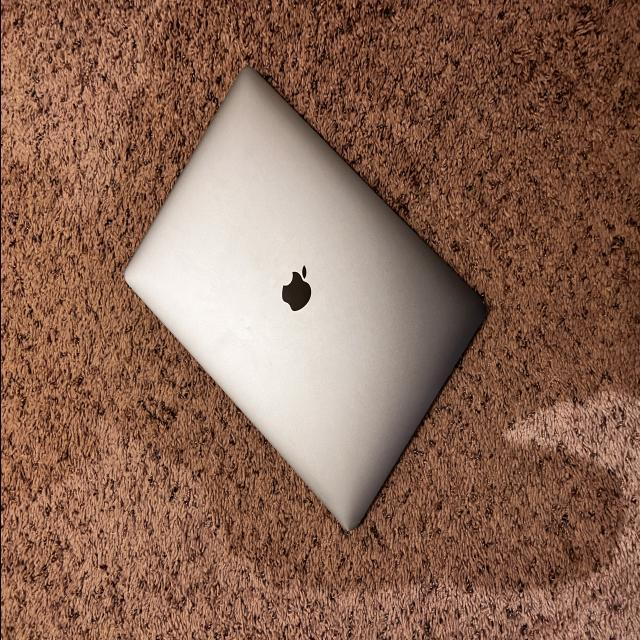laptop: (122, 64, 488, 533)
